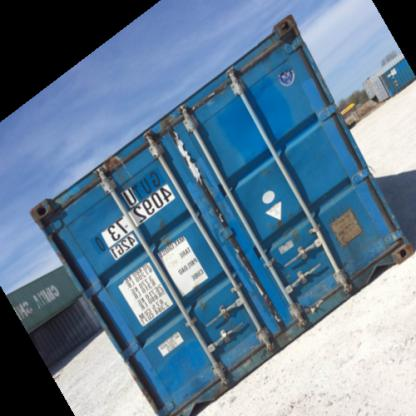Damage: (164, 124, 206, 193), (87, 160, 141, 197), (231, 252, 271, 300), (278, 300, 347, 325), (204, 351, 258, 377), (250, 325, 282, 351)
